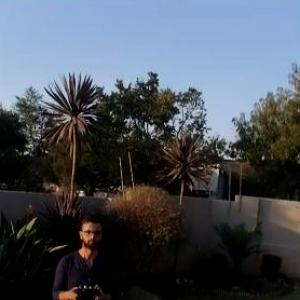follow: (47, 206, 121, 299)
